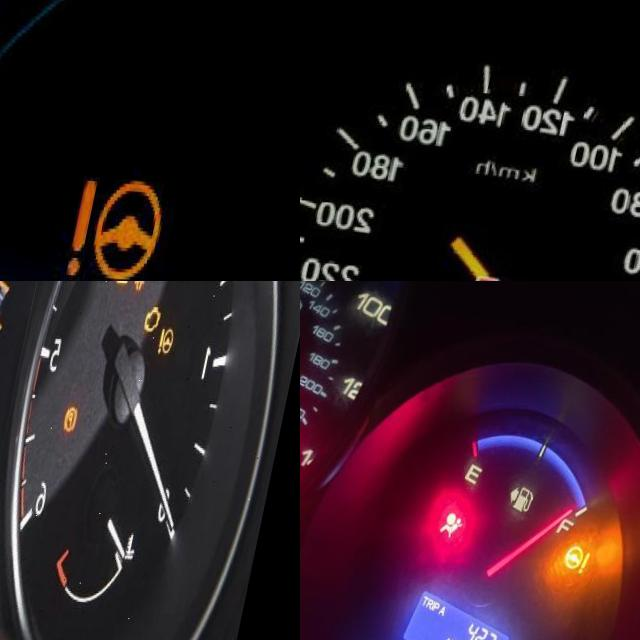Electronic Power Steering: (76, 174, 176, 281), (566, 536, 611, 572)
Electronic Power Steering Warning: (162, 316, 190, 351)
